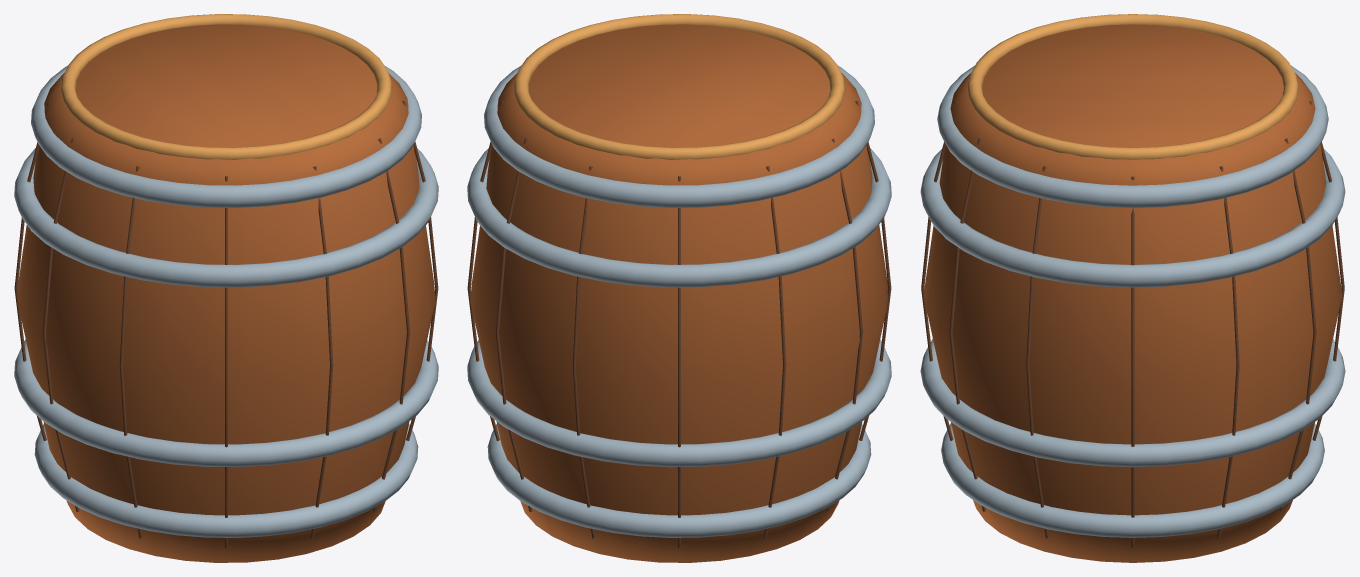
The model's file is BARREL.glb.
3 renders of one model, left to right at view 1: azimuth 30°, elevation 25°; view 2: azimuth 150°, elevation 25°; view 3: azimuth 270°, elevation 25°, orthographic.
Parts seen in each view (by area): view 1: BARREL; view 2: BARREL; view 3: BARREL.
Boxes of the visible parts, left/top/right/bottom form: BARREL: left=14, top=14, right=438, bottom=562; BARREL: left=467, top=14, right=891, bottom=562; BARREL: left=920, top=14, right=1345, bottom=562.
Size of the model in its own units: 0.558 by 0.6 by 0.558.
Materials: 4 (2 with a texture image).
